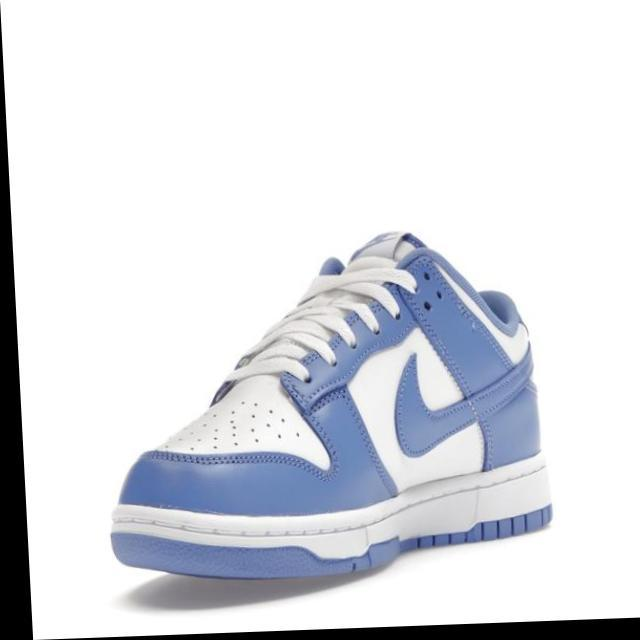J1_InsoleChar: (0, 0, 639, 639)
J1_MateComp: (109, 229, 554, 580)
J1_StitchPattern: (108, 457, 554, 577), (210, 250, 419, 402), (108, 499, 554, 556), (158, 396, 300, 454), (405, 502, 554, 551), (143, 446, 333, 477)
